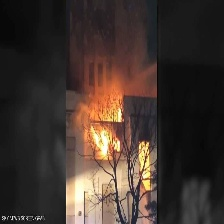fire: (92, 97, 126, 161), (136, 141, 154, 195)
